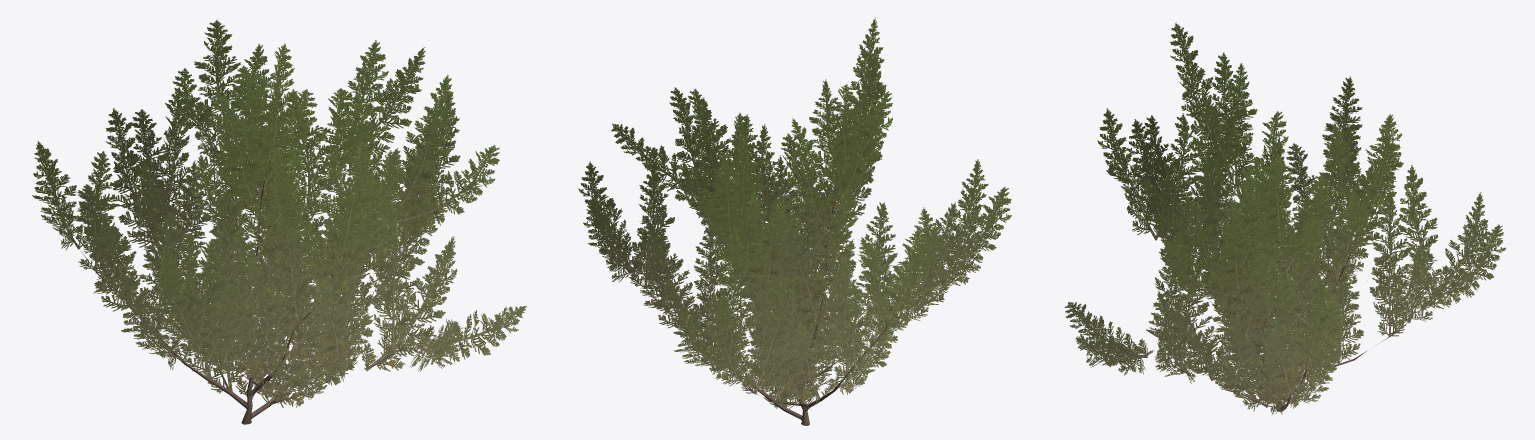
File: b14_oasis_bush.glb
3 views of the same model, side by side, from view 1: azimuth 30°, elevation 25°; view 2: azimuth 150°, elevation 25°; view 3: azimuth 270°, elevation 25° (orthographic). The views are drawn at different scales.
Parts seen in each view (by area): view 1: b14_oasis_bush; view 2: b14_oasis_bush; view 3: b14_oasis_bush.
Part boxes in pixels (bbox=[...]): b14_oasis_bush: bbox=[32, 19, 526, 424]; b14_oasis_bush: bbox=[578, 17, 1011, 425]; b14_oasis_bush: bbox=[1064, 22, 1505, 414].
Size of the model in its own units: 0.9441 by 0.9011 by 1.
Materials: 6 (6 with a texture image).
